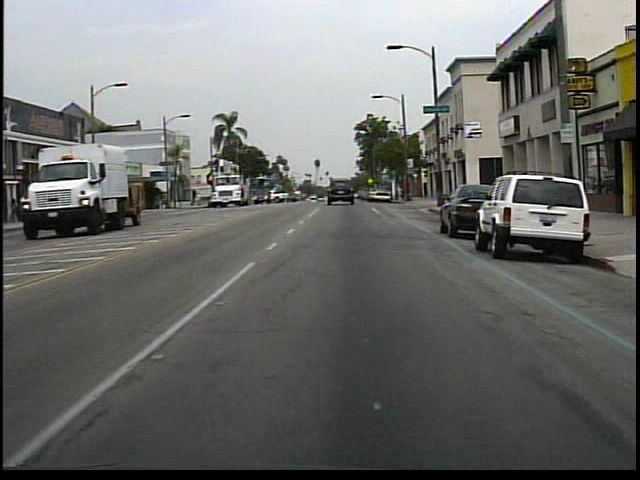person: (13, 194, 23, 223)
